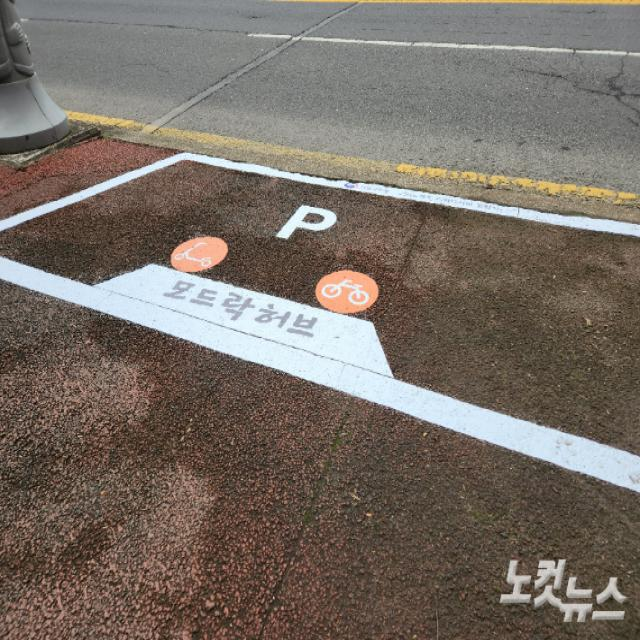parking_zone: (139, 154, 400, 409)
